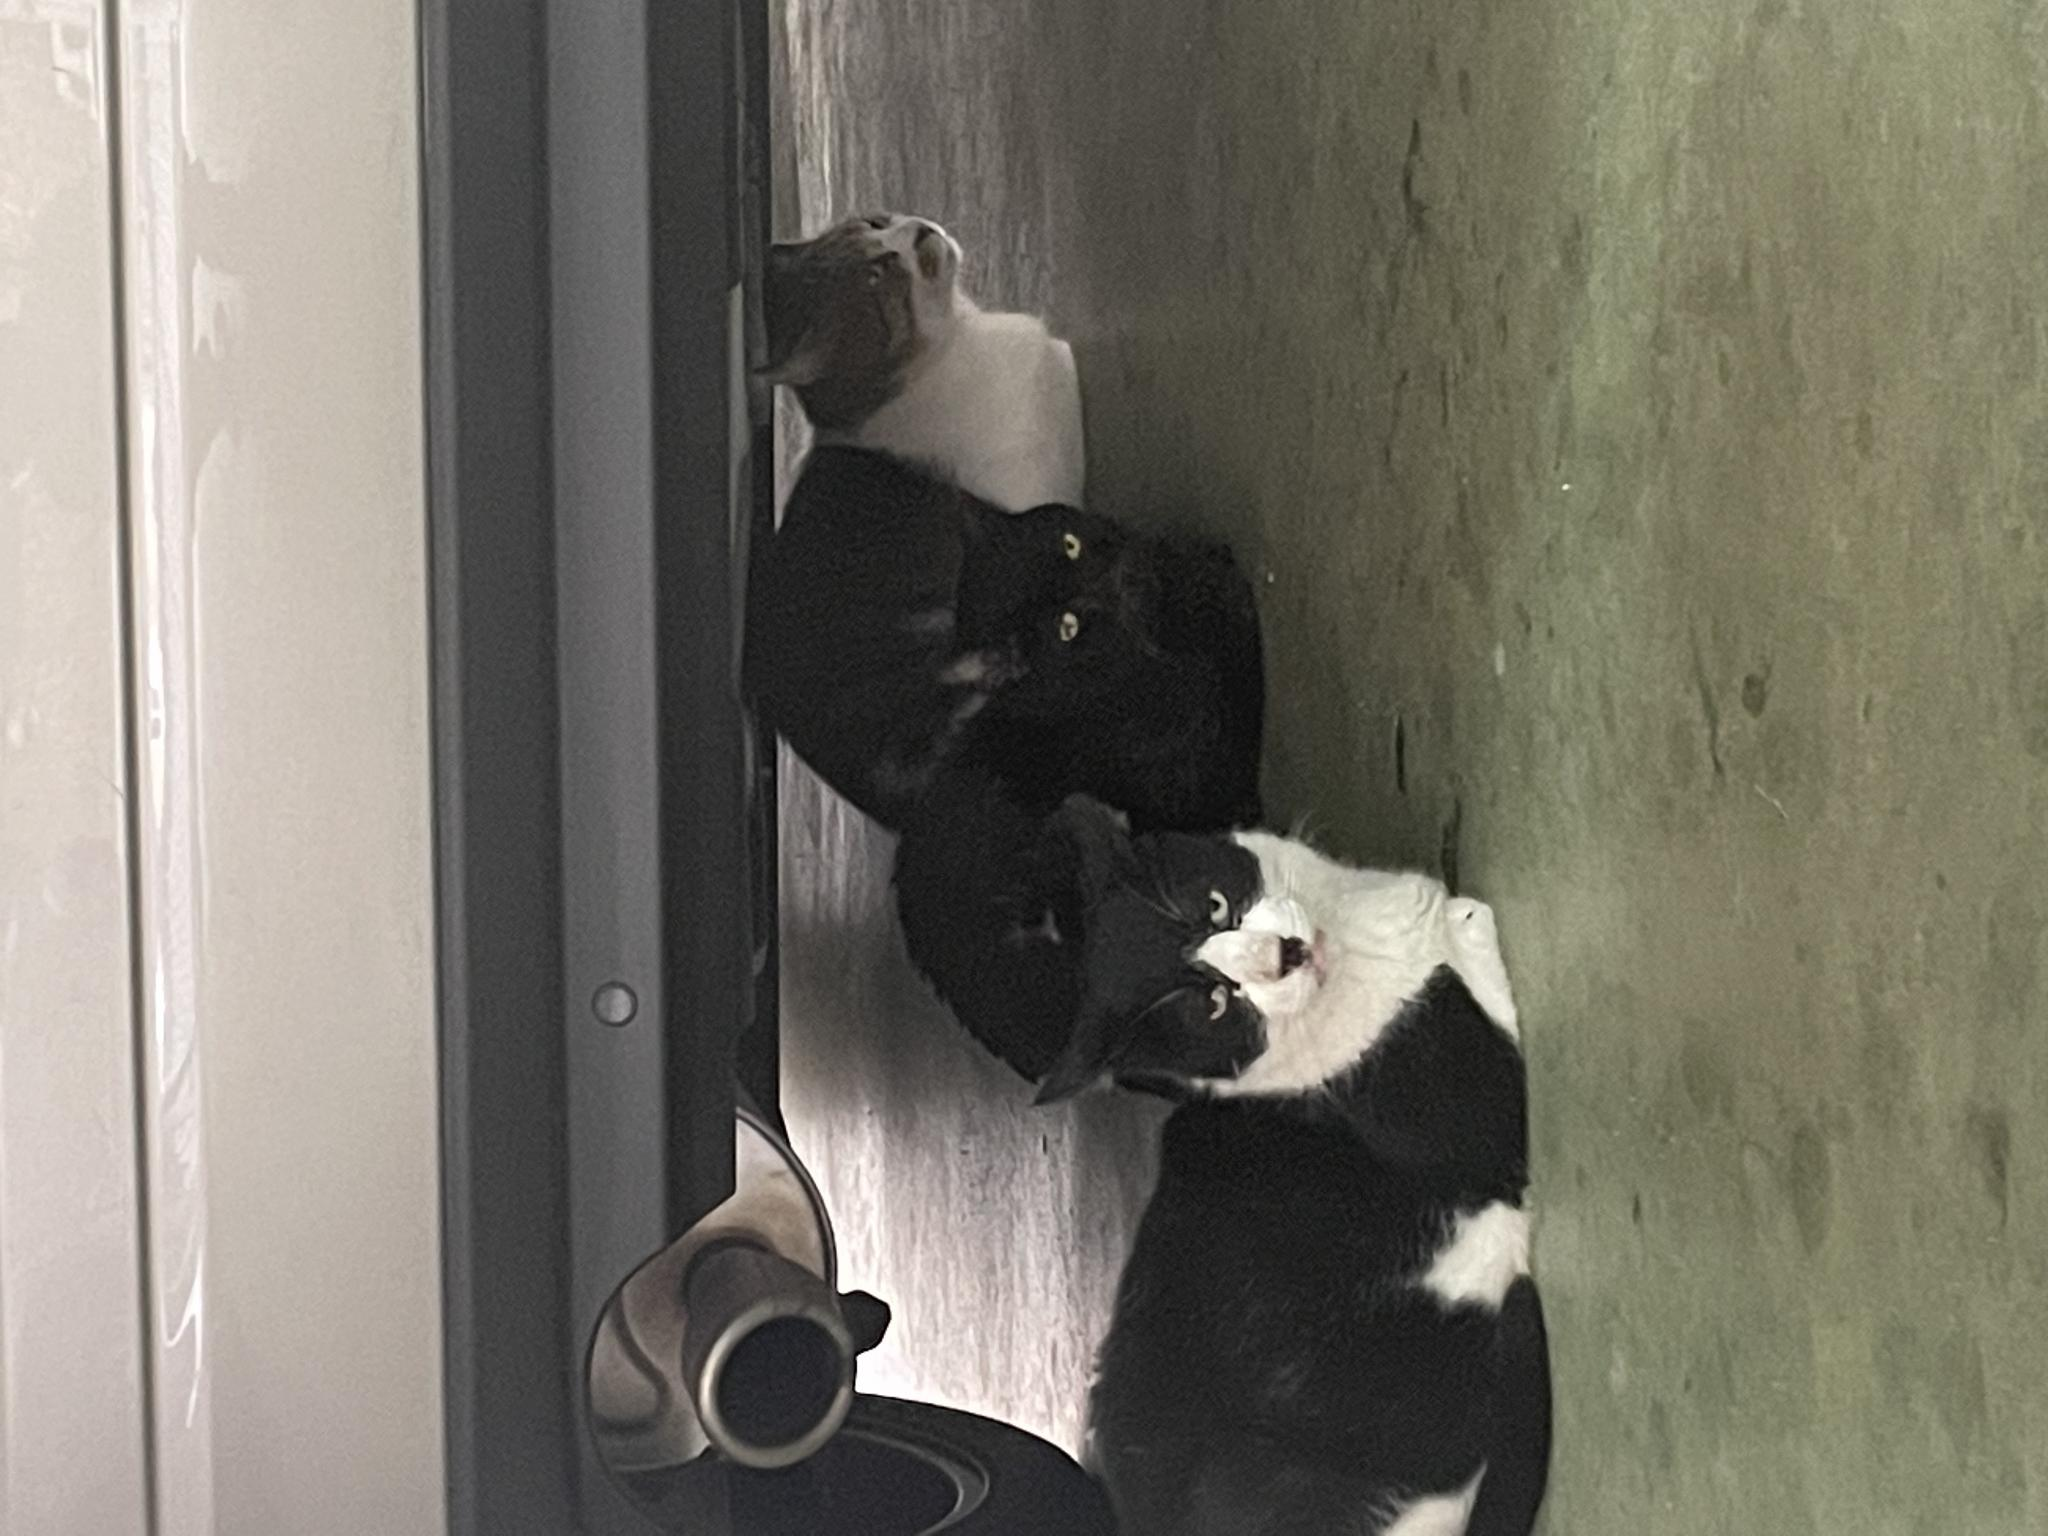cat: (2, 1029, 743, 1536), (447, 889, 1039, 1263), (700, 739, 1326, 1087)
